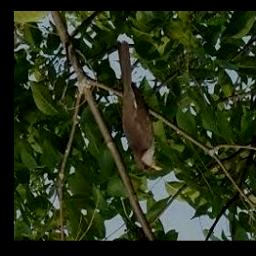Cuckoo: (117, 42, 163, 172)
